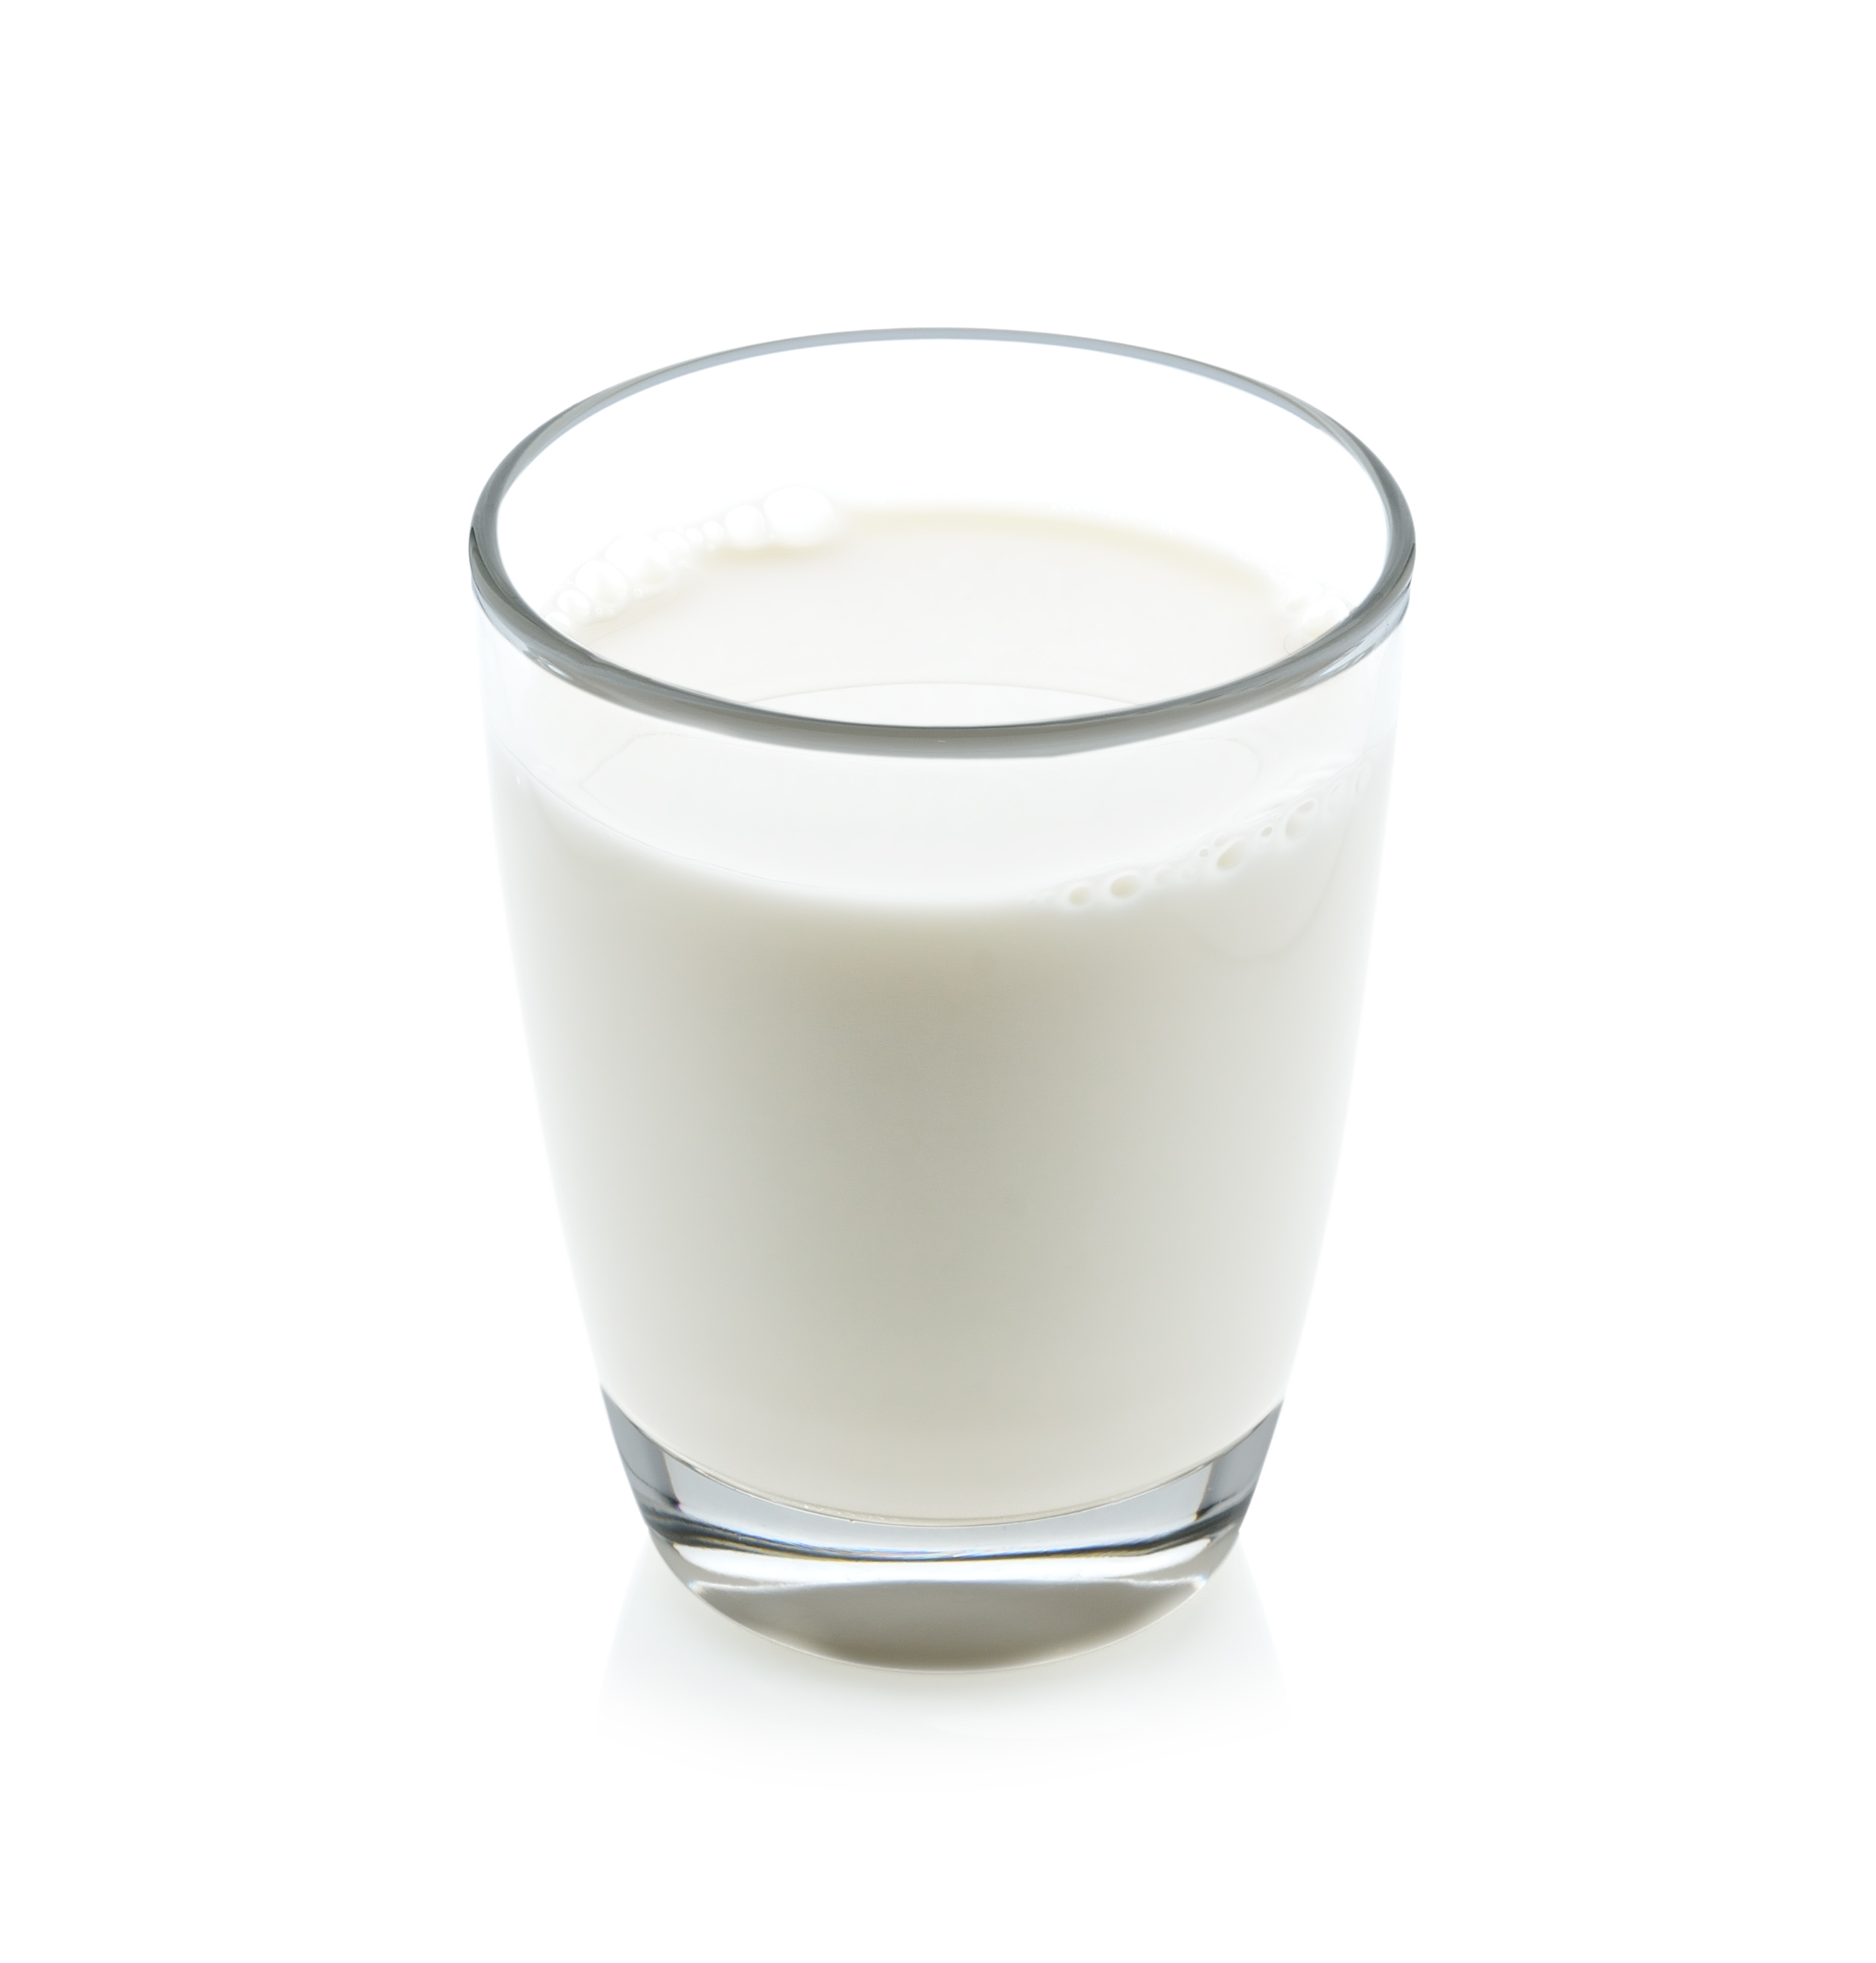glass of milk: (470, 328, 1418, 1683)
